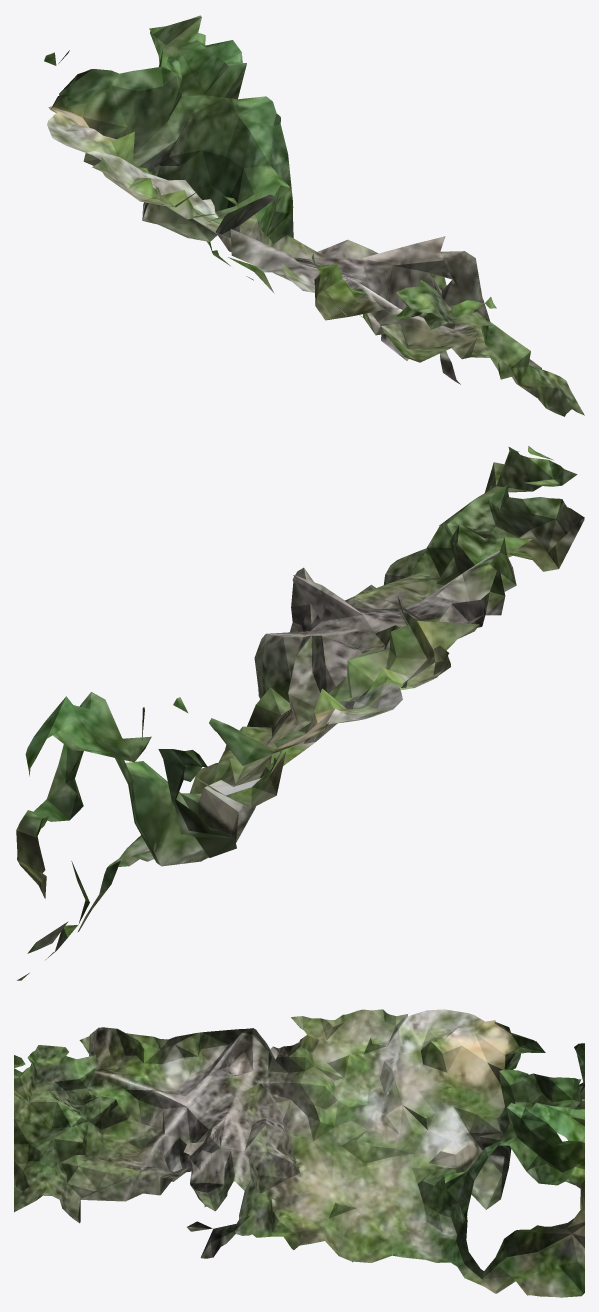
3 renders of one model, top to bottom at view 1: azimuth 30°, elevation 25°; view 2: azimuth 150°, elevation 25°; view 3: azimuth 270°, elevation 25°, orthographic. The views are drawn at different scales.
Size of the model in its own units: 2.37 by 2.18 by 5.9.
2 materials, 2 textured.
